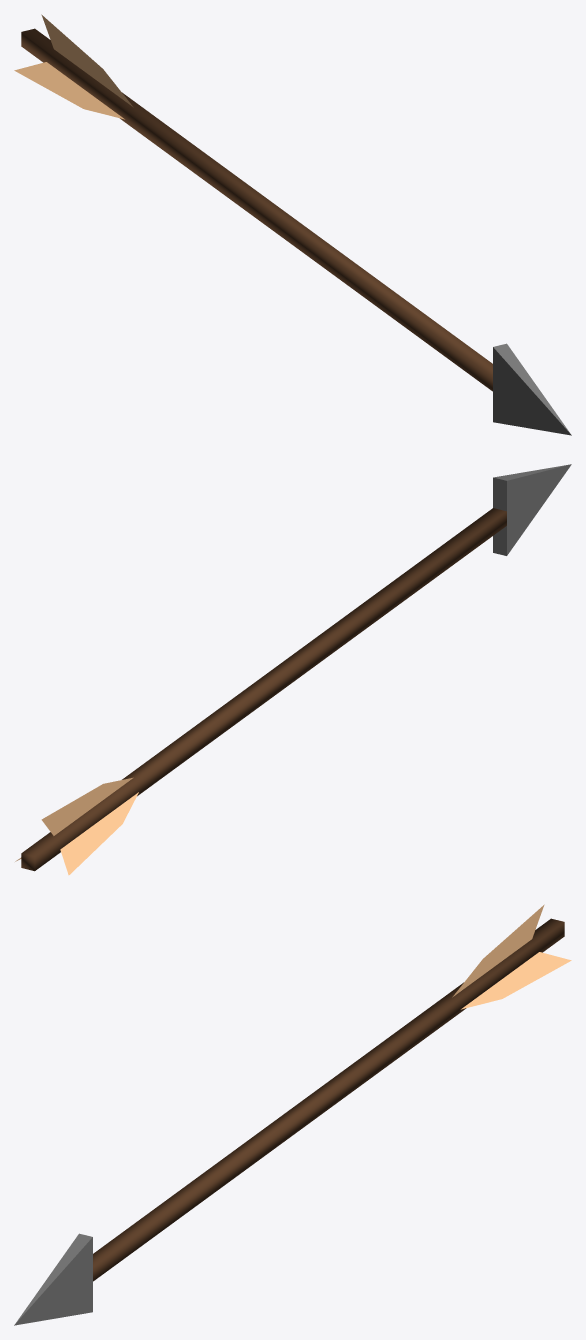
Rendered from Arrow_performance_LOD2.fbx.
The picture shows the model from 3 angles, top to bottom: view 1: azimuth 30°, elevation 25°; view 2: azimuth 150°, elevation 25°; view 3: azimuth 330°, elevation 25°; orthographic projection.
Parts seen in each view (by area): view 1: Arrow_LOD2; view 2: Arrow_LOD2; view 3: Arrow_LOD2.
Part boxes in pixels (x1,y1,x2,y2): Arrow_LOD2: (14, 14, 571, 435); Arrow_LOD2: (15, 464, 571, 875); Arrow_LOD2: (14, 904, 571, 1325).
Bounding box in the file's own units: 5.99 × 103 × 7.86.
